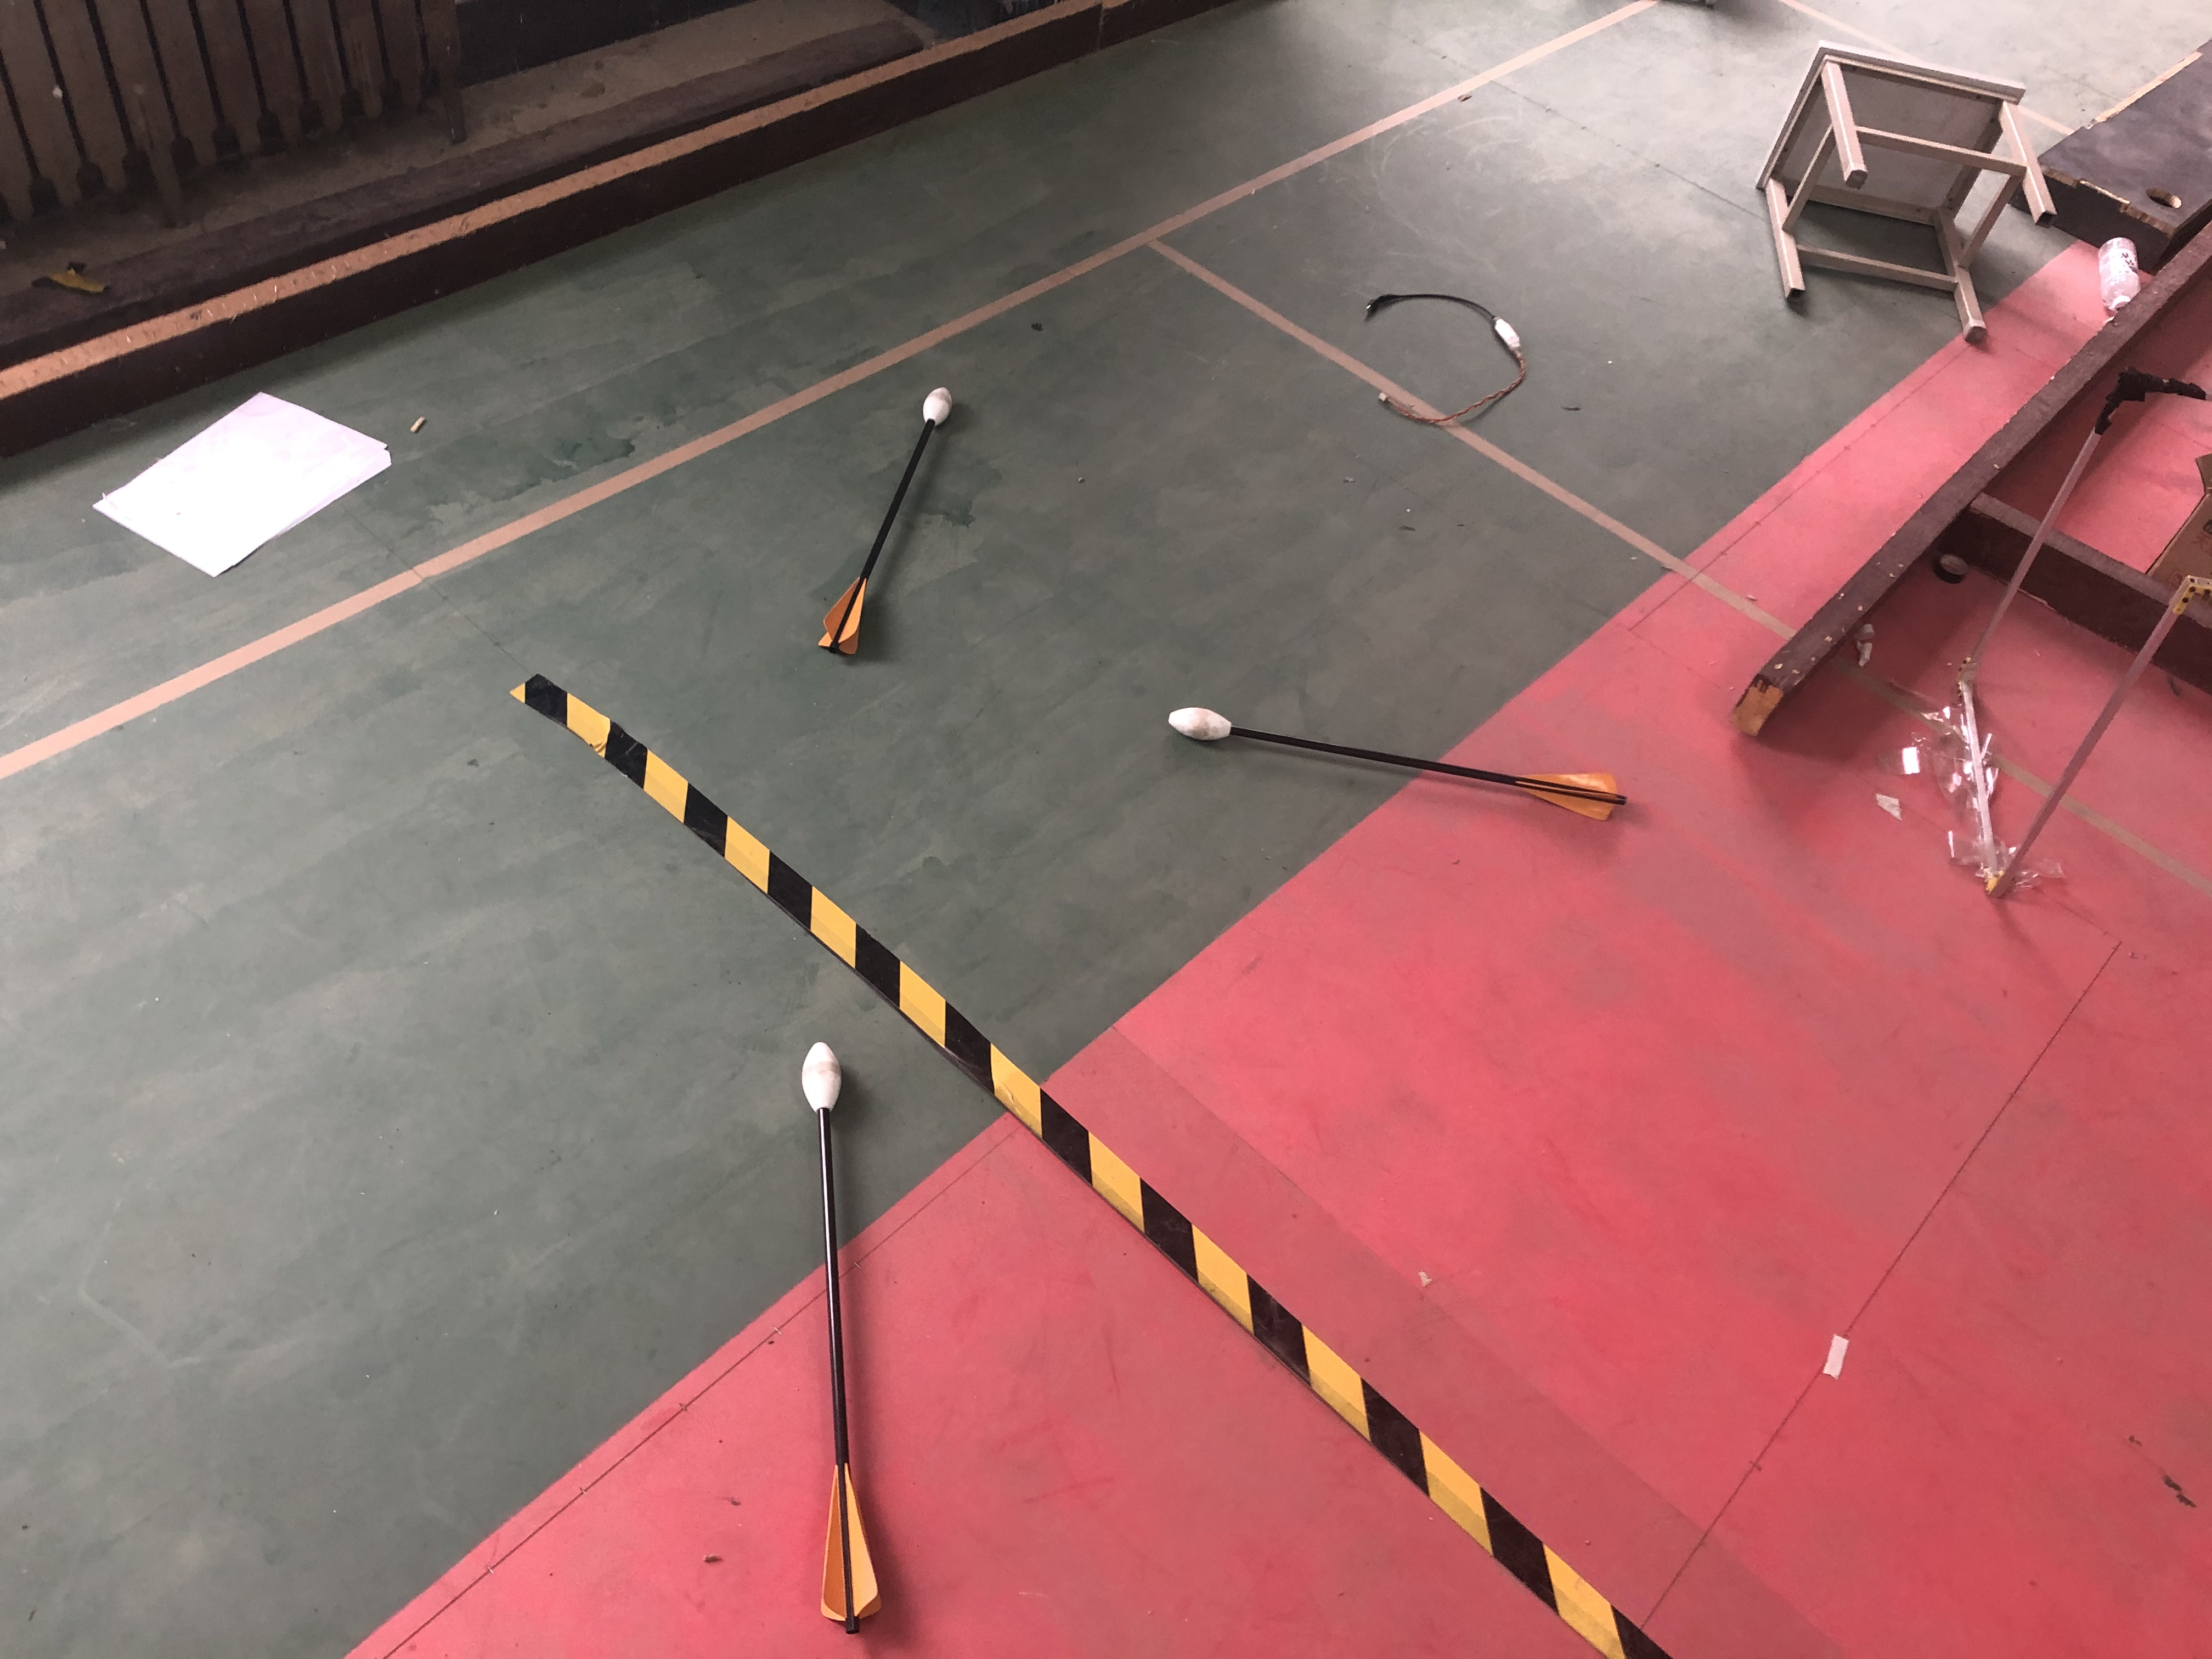arrow: (1165, 695, 1627, 824), (799, 1037, 895, 1631), (817, 385, 958, 664)
arrowFront: (799, 1042, 843, 1119), (1160, 702, 1235, 744), (918, 382, 956, 429)
